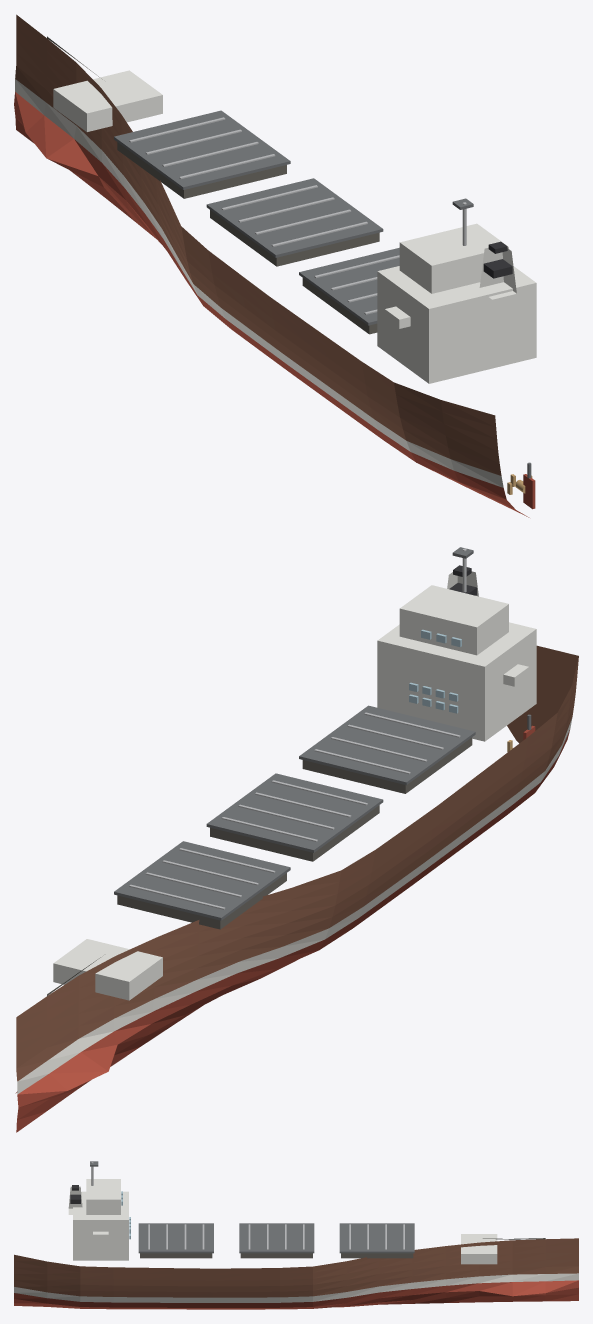
Rendered from bulk_lod2.glb.
3 views of the same model, one above another, from view 1: azimuth 30°, elevation 25°; view 2: azimuth 150°, elevation 25°; view 3: azimuth 270°, elevation 25° (orthographic). The views are drawn at different scales.
Visible parts, largest first — view 1: ship; view 2: ship; view 3: ship.
Boxes of the visible parts, bbox=[...] form: ship: bbox=[14, 14, 536, 517]; ship: bbox=[15, 547, 578, 1132]; ship: bbox=[14, 1161, 578, 1309].
Bounding box in the file's own units: 0.749 × 1.12 × 4.03.
